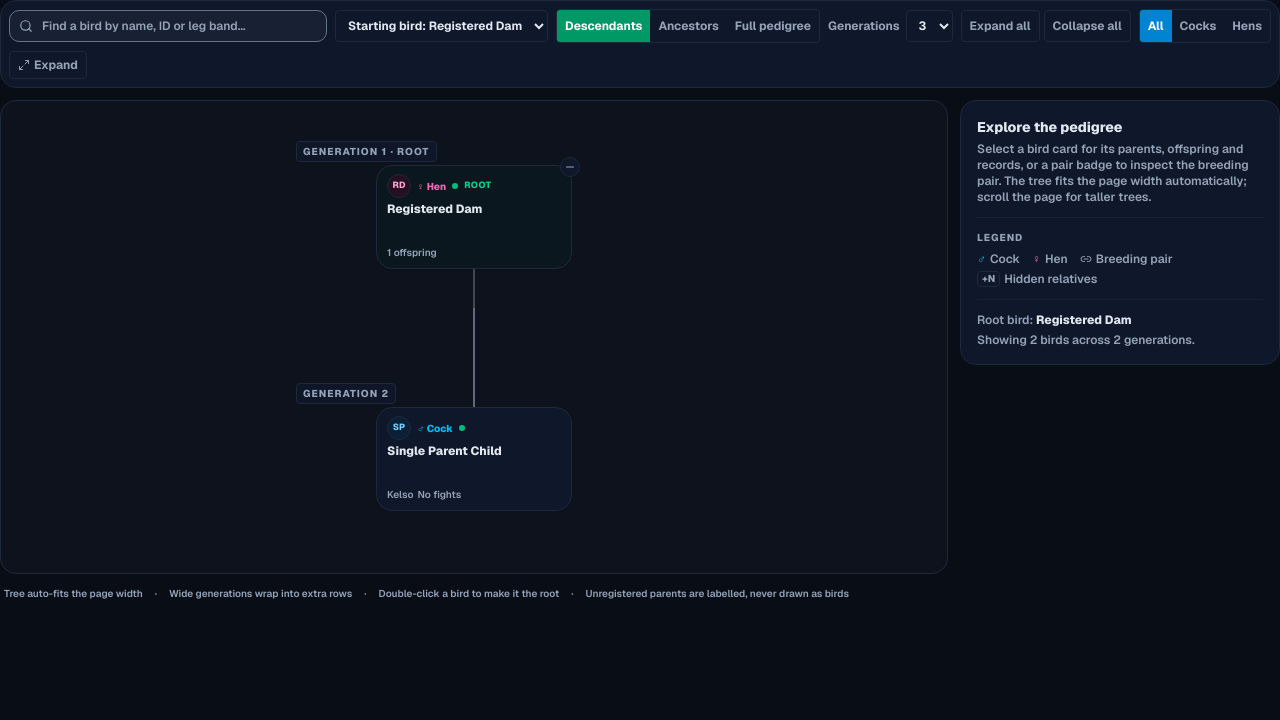
it: LineageFlow pedigree canvas › never fabricates a parent that is not registered
The width and height of the screenshot is (1280, 720).
Expected: the button with test id "lineage-bird-card" is shown, top-left (376, 165), bottom-right (572, 269)
Click the button with test id "lineage-bird-card": (474, 459) top-left (376, 407), bottom-right (572, 511)
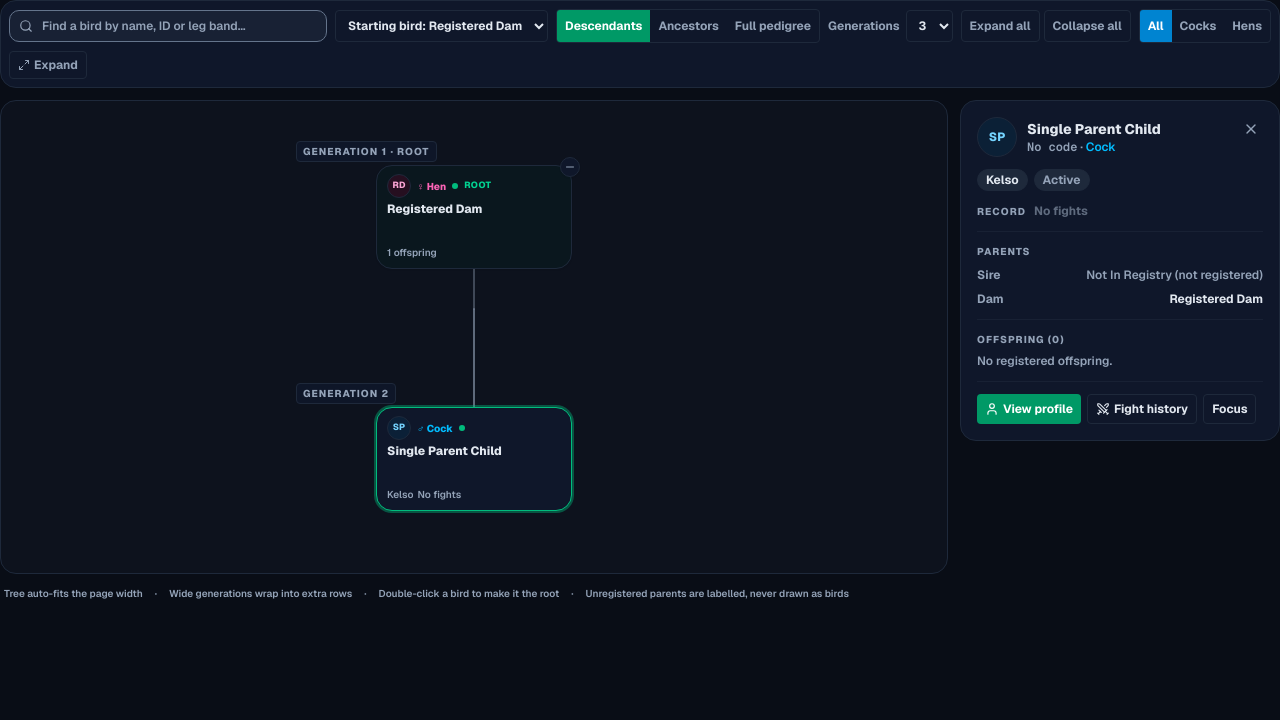
Expected: the button "Registered Dam" is shown, top-left (1170, 291), bottom-right (1263, 307)
Result: the text "Not In Registry (not registered)" is shown at top-left (1086, 267), bottom-right (1263, 283)
